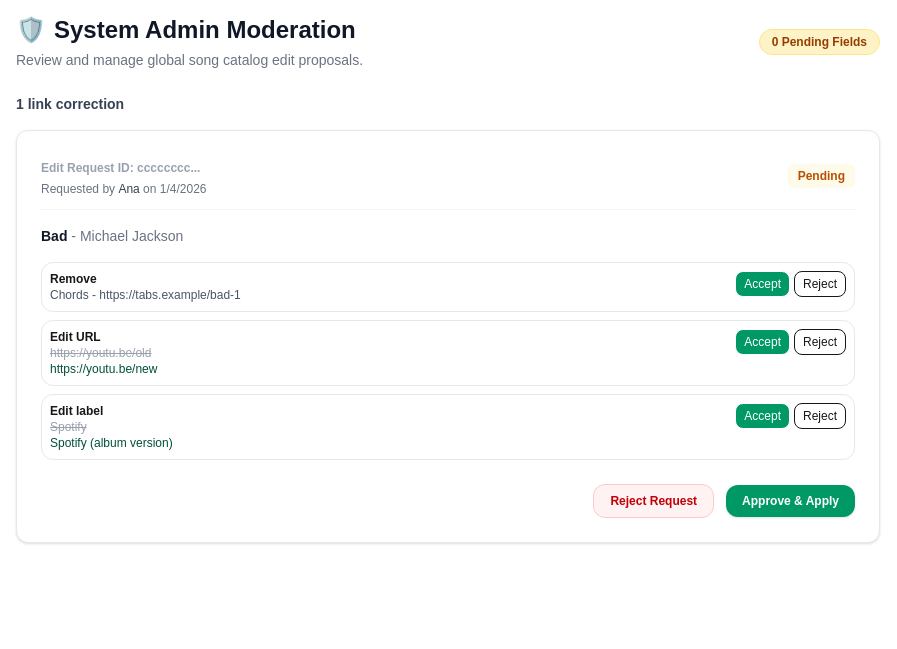
it: ModerationQueue link-row verdicts › rejects the submission's link rows with the typed reason
This screenshot has width=897, height=649.
Click the button "Reject Request": (654, 501) [593,484,714,518]
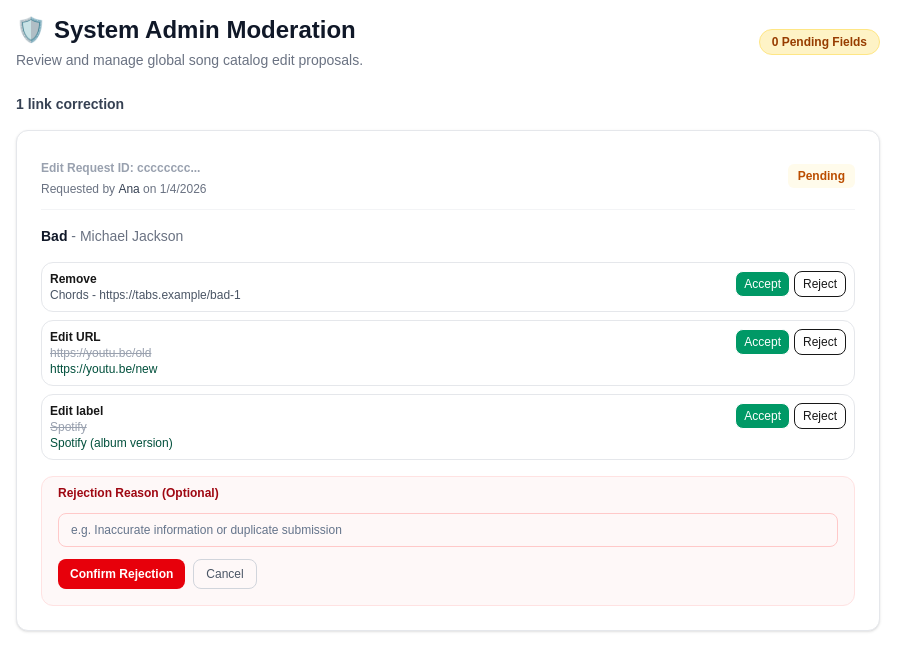
In the field with placeholder "e.g. Inaccurate information or duplicate submission": (448, 530) [58,513,838,547], type "Duplicate"
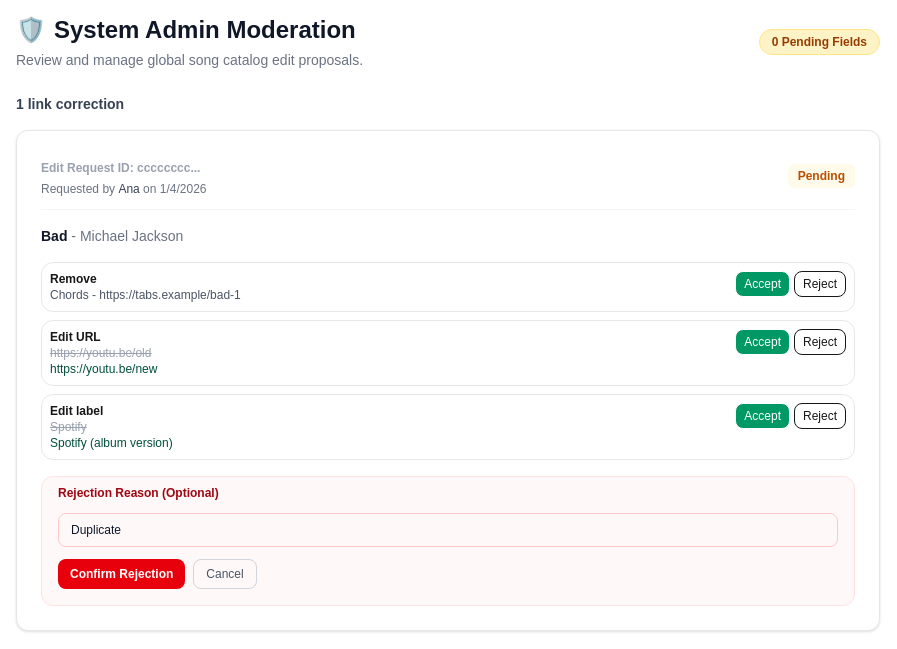
Click the button "Confirm Rejection": (122, 574) [58,559,185,589]
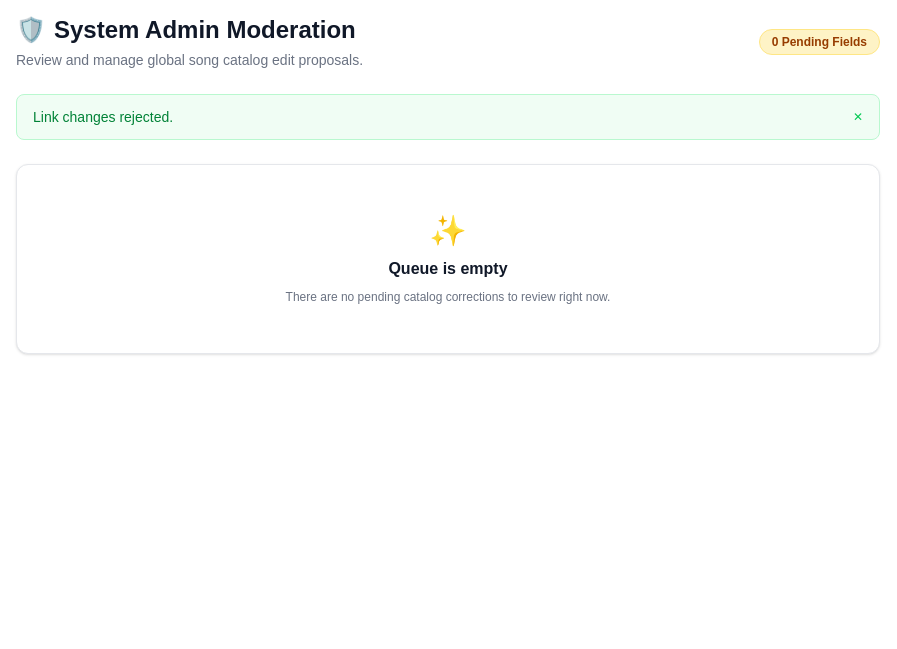
Expected: the text "Link changes rejected." is shown, [33,107,173,127]
